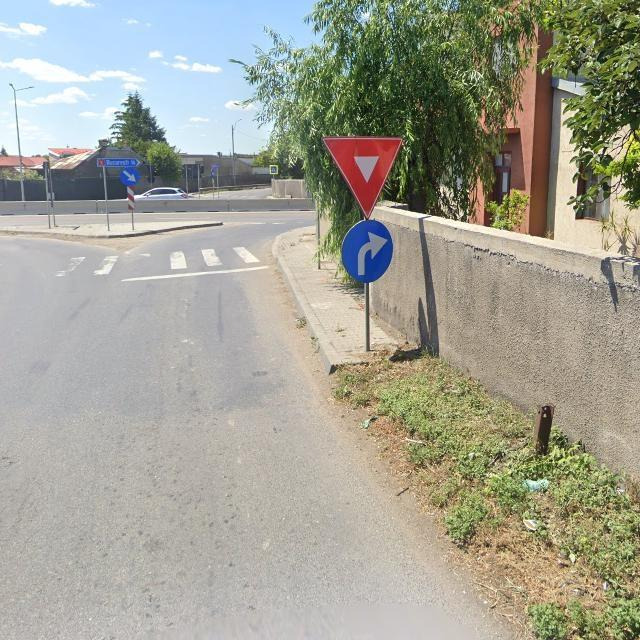prio_give_way: (322, 134, 405, 222)
